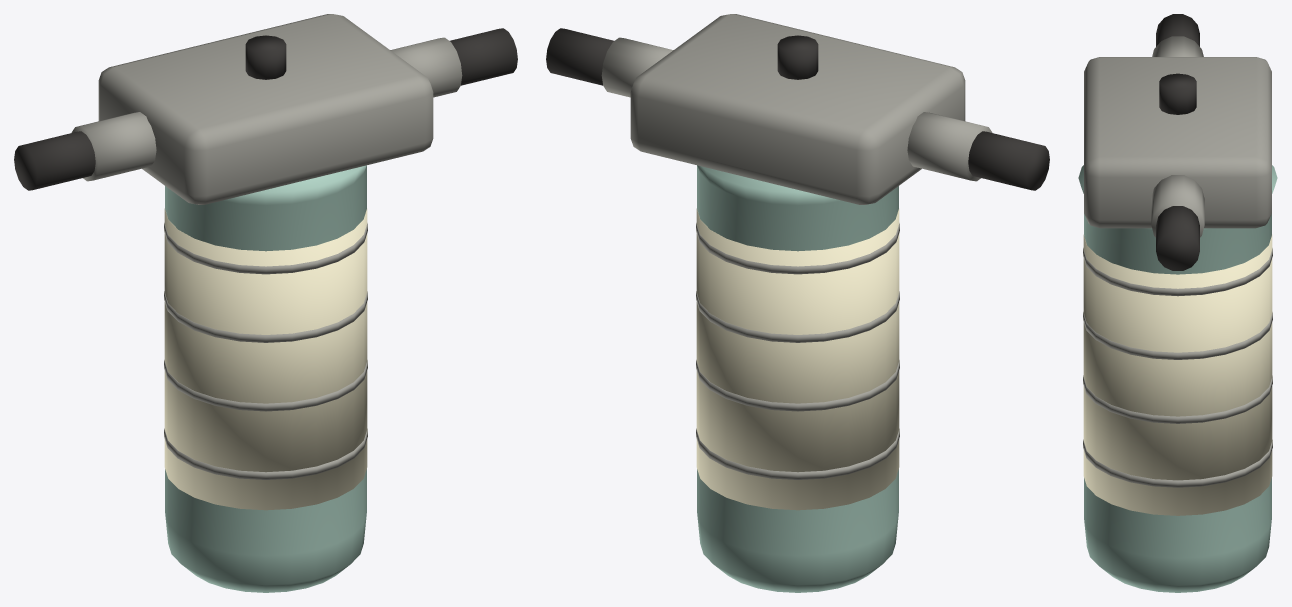
Rendered from filter.glb.
The picture shows the model from 3 angles, left to right: view 1: azimuth 30°, elevation 25°; view 2: azimuth 150°, elevation 25°; view 3: azimuth 270°, elevation 25°; orthographic projection. The views are drawn at different scales.
Parts seen in each view (by area): view 1: cartridge, cap, housing, port, hose, hose.001, port.001, rib.001, rib.003, rib, rib.002, valve; view 2: cartridge, cap, housing, port, hose, hose.001, port.001, rib.001, rib.003, rib, rib.002, valve; view 3: cartridge, cap, housing, hose.001, port.001, rib, rib.001, rib.003, rib.002, valve, hose, port.
Part boxes in pixels (x1,y1,x2,y2): cartridge: [164, 208, 367, 510]; cap: [98, 14, 433, 204]; housing: [165, 165, 366, 592]; port: [71, 112, 156, 181]; hose: [14, 131, 95, 190]; hose.001: [450, 28, 517, 85]; port.001: [390, 37, 462, 97]; rib.001: [164, 360, 367, 411]; rib.003: [164, 223, 367, 274]; rib: [164, 428, 367, 479]; rib.002: [164, 291, 367, 342]; valve: [245, 35, 286, 79]; cartridge: [696, 208, 899, 510]; cap: [630, 14, 965, 204]; housing: [697, 165, 898, 592]; port: [907, 112, 992, 181]; hose: [968, 131, 1049, 190]; hose.001: [546, 28, 613, 85]; port.001: [601, 37, 673, 97]; rib.001: [696, 360, 899, 411]; rib.003: [696, 223, 899, 274]; rib: [696, 428, 899, 479]; rib.002: [696, 291, 899, 342]; valve: [777, 35, 818, 79]; cartridge: [1083, 234, 1272, 515]; cap: [1084, 57, 1271, 228]; housing: [1078, 165, 1277, 592]; hose.001: [1156, 206, 1199, 270]; port.001: [1151, 175, 1204, 237]; rib: [1083, 439, 1272, 487]; rib.001: [1083, 375, 1272, 423]; rib.003: [1083, 248, 1272, 296]; rib.002: [1083, 312, 1272, 359]; valve: [1159, 73, 1196, 114]; hose: [1156, 14, 1199, 46]; port: [1152, 36, 1203, 56].
Bounding box in the file's own units: 0.33 × 0.338 × 0.1272.
